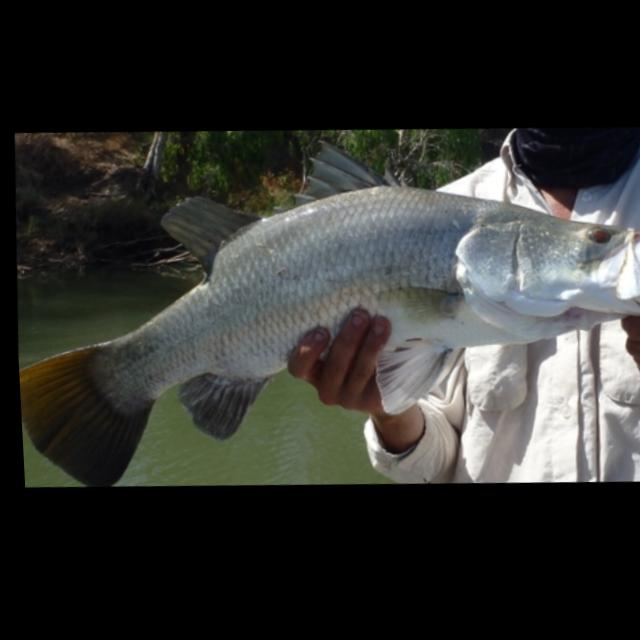Seabass: (7, 109, 640, 508)
